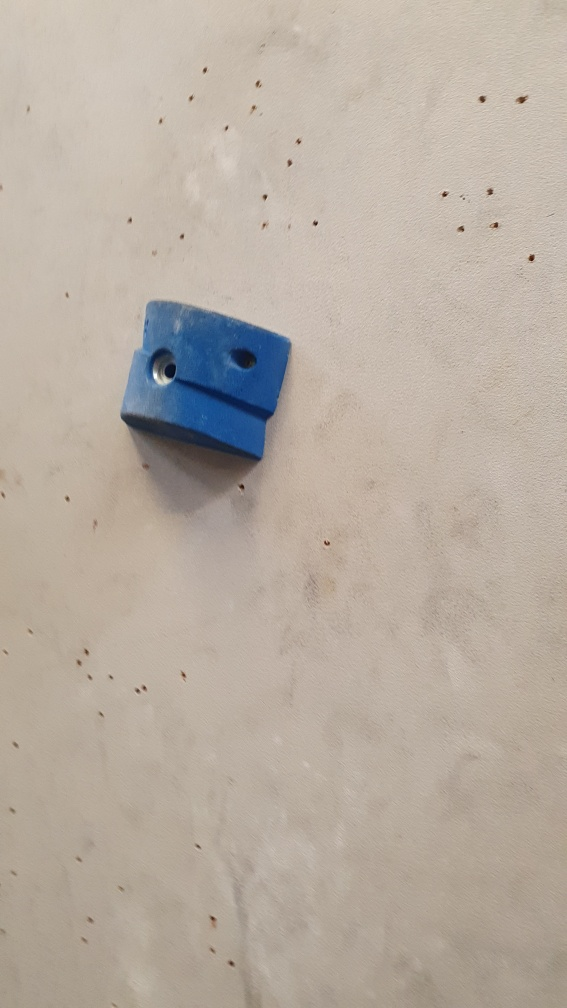Pinch: (121, 296, 295, 462)
